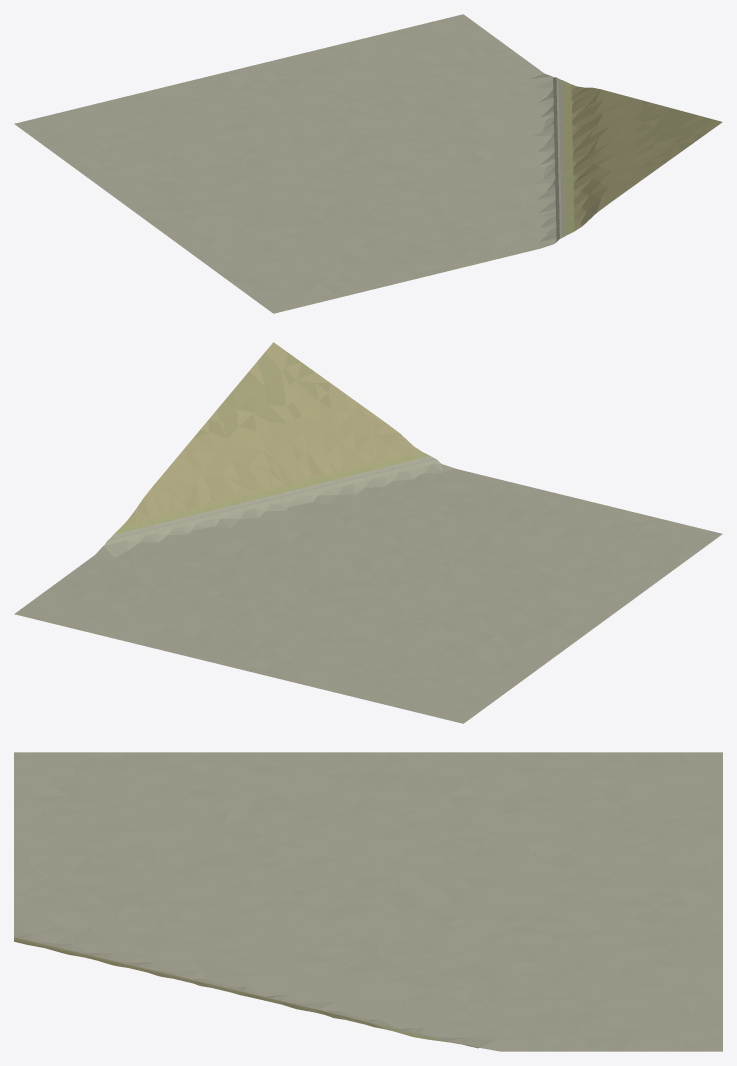
File: Ground_-3_3.glb
The picture shows the model from 3 angles, top to bottom: view 1: azimuth 30°, elevation 25°; view 2: azimuth 150°, elevation 25°; view 3: azimuth 270°, elevation 25°; orthographic projection. The views are drawn at different scales.
Visible parts, largest first — view 1: Ground_-3_3; view 2: Ground_-3_3; view 3: Ground_-3_3.
Boxes of the visible parts, x1,y1,x2,y2 form: Ground_-3_3: [14, 14, 722, 313]; Ground_-3_3: [14, 342, 722, 723]; Ground_-3_3: [14, 752, 722, 1051].
Size of the model in its own units: 768 by 134 by 768.
